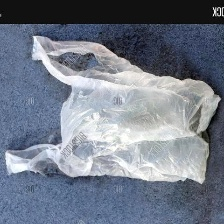plastic_bag: (0, 26, 222, 191)
